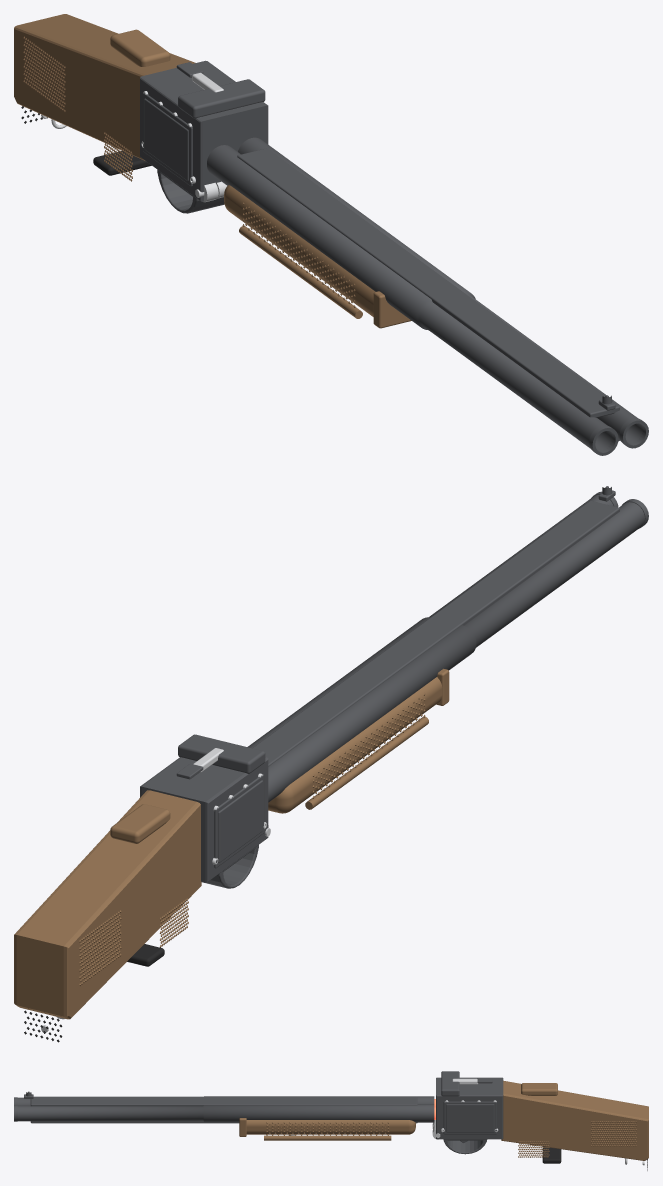
The model's file is stevens311.glb.
3 views of the same model, one above another, from view 1: azimuth 30°, elevation 25°; view 2: azimuth 150°, elevation 25°; view 3: azimuth 270°, elevation 25° (orthographic). The views are drawn at different scales.
Visible parts, largest first — view 1: side-by-side-shotgun, action/gunmetal, action/walnut; view 2: side-by-side-shotgun, action/gunmetal, action/walnut; view 3: side-by-side-shotgun, action/gunmetal, action/walnut.
Part boxes in pixels (x1,y1,x2,y2): side-by-side-shotgun: (14,14,268,213); action/gunmetal: (207,137,648,455); action/walnut: (224,185,411,328); side-by-side-shotgun: (14,734,270,1042); action/gunmetal: (247,486,648,802); action/walnut: (268,668,449,813); side-by-side-shotgun: (432,1071,648,1170); action/gunmetal: (14,1091,434,1123); action/walnut: (239,1118,415,1140).
Bounding box in the file's own units: 0.0776 × 0.1565 × 1.03.
